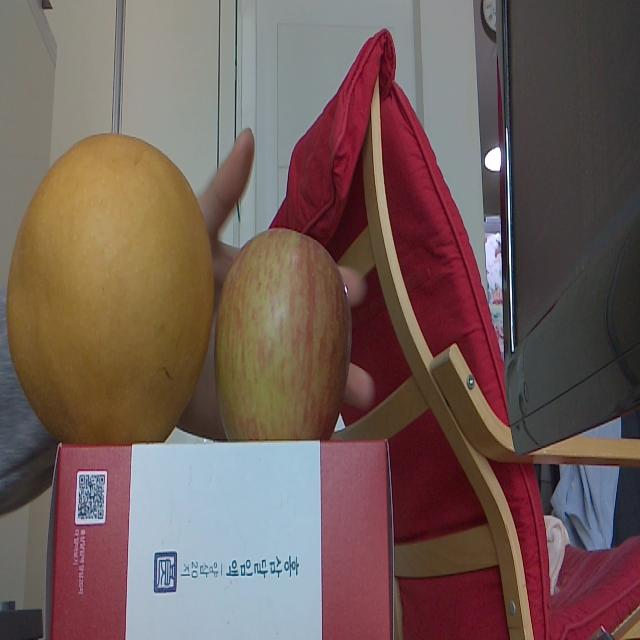apple: (218, 230, 350, 439)
pear: (6, 130, 212, 444)
